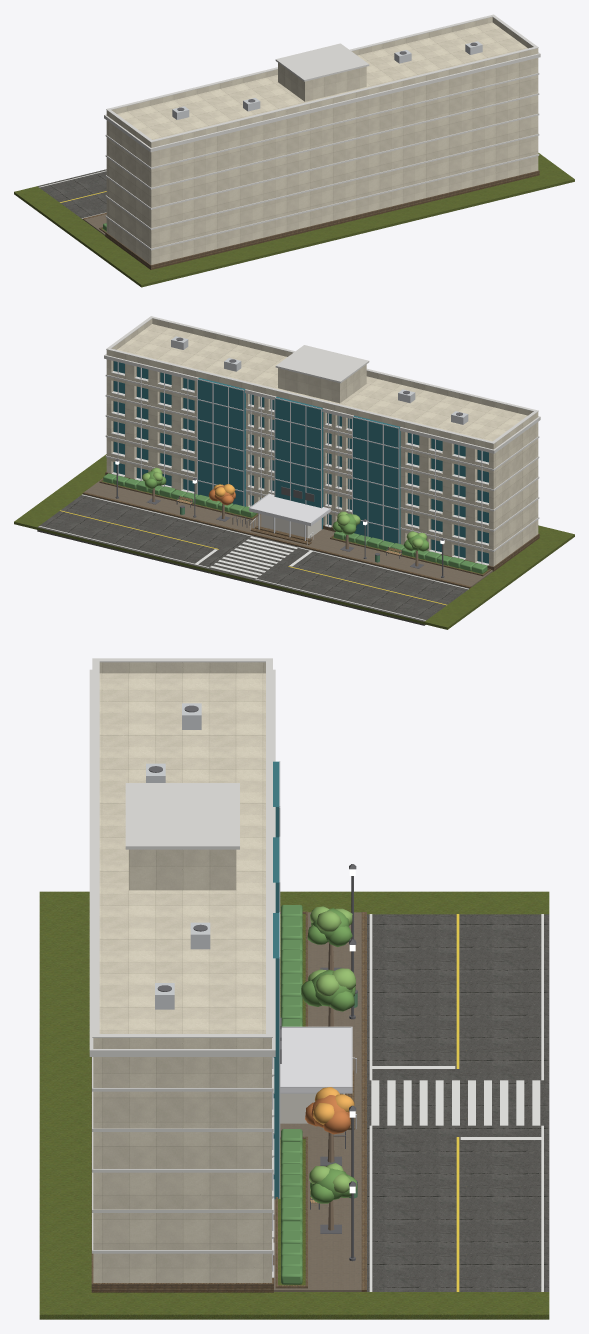
File: hangnimgwan.glb
3 views of the same model, one above another, from view 1: azimuth 30°, elevation 25°; view 2: azimuth 150°, elevation 25°; view 3: azimuth 270°, elevation 25° (orthographic). The views are drawn at different scales.
Visible parts, largest first — view 1: Hangnimgwan_Mass, HN_BedGrass, HN_StringCourses, HN_RoofCaps, Hangnimgwan_EntranceSteps, base, HN_Roof_HVAC; view 2: Hangnimgwan_Mass, Hangnimgwan_CoreGlass, base, HN_RoofCaps, HN_BedGrass, HN_StringCourses, HN_Sidewalk, Hangnimgwan_EntrancePillars, HN_Hedges, Hangnimgwan_EntranceSteps, HN_RoadMarkings_White, Hangnimgwan_Mullions (+8 smaller); view 3: Hangnimgwan_Mass, base, HN_BedGrass, HN_RoofCaps, HN_Sidewalk, HN_StringCourses, HN_RoadMarkings_White, HN_Hedges, Hangnimgwan_EntranceSteps, Hangnimgwan_EntranceCanopy, HN_Tree_00_CanopyDark, Hangnimgwan_CoreGlass (+7 smaller).
Part boxes in pixels (left/top/right/bottom): Hangnimgwan_Mass: left=106, top=17, right=538, bottom=264; HN_BedGrass: left=14, top=153, right=574, bottom=287; HN_StringCourses: left=104, top=52, right=540, bottom=250; HN_RoofCaps: left=106, top=14, right=538, bottom=142; Hangnimgwan_EntranceSteps: left=82, top=170, right=539, bottom=269; base: left=37, top=169, right=106, bottom=218; HN_Roof_HVAC: left=172, top=41, right=482, bottom=119; Hangnimgwan_Mass: left=106, top=318, right=538, bottom=566; Hangnimgwan_CoreGlass: left=113, top=361, right=488, bottom=563; base: left=37, top=494, right=469, bottom=625; HN_RoofCaps: left=106, top=316, right=538, bottom=565; HN_BedGrass: left=14, top=454, right=574, bottom=629; HN_StringCourses: left=104, top=354, right=540, bottom=551; HN_Sidewalk: left=84, top=478, right=493, bottom=586; Hangnimgwan_EntrancePillars: left=197, top=378, right=399, bottom=543; HN_Hedges: left=103, top=473, right=487, bottom=573; Hangnimgwan_EntranceSteps: left=82, top=471, right=539, bottom=588; HN_RoadMarkings_White: left=39, top=494, right=468, bottom=620; Hangnimgwan_Mullions: left=117, top=362, right=482, bottom=563; Hangnimgwan_Mass: left=93, top=662, right=271, bottom=1282; base: left=367, top=914, right=549, bottom=1291; HN_BedGrass: left=39, top=891, right=549, bottom=1319; HN_RoofCaps: left=92, top=658, right=274, bottom=1278; HN_Sidewalk: left=274, top=912, right=361, bottom=1291; HN_StringCourses: left=89, top=669, right=275, bottom=1253; HN_RoadMarkings_White: left=369, top=914, right=543, bottom=1291; HN_Hedges: left=281, top=905, right=302, bottom=1284; Hangnimgwan_EntranceSteps: left=91, top=911, right=366, bottom=1292; Hangnimgwan_EntranceCanopy: left=280, top=1028, right=352, bottom=1092; HN_Tree_00_CanopyDark: left=301, top=908, right=357, bottom=1203; Hangnimgwan_CoreGlass: left=273, top=761, right=279, bottom=1199.
Size of the model in its own units: 56 by 18.3 by 28.5.
Materials: 26 (5 with a texture image).
